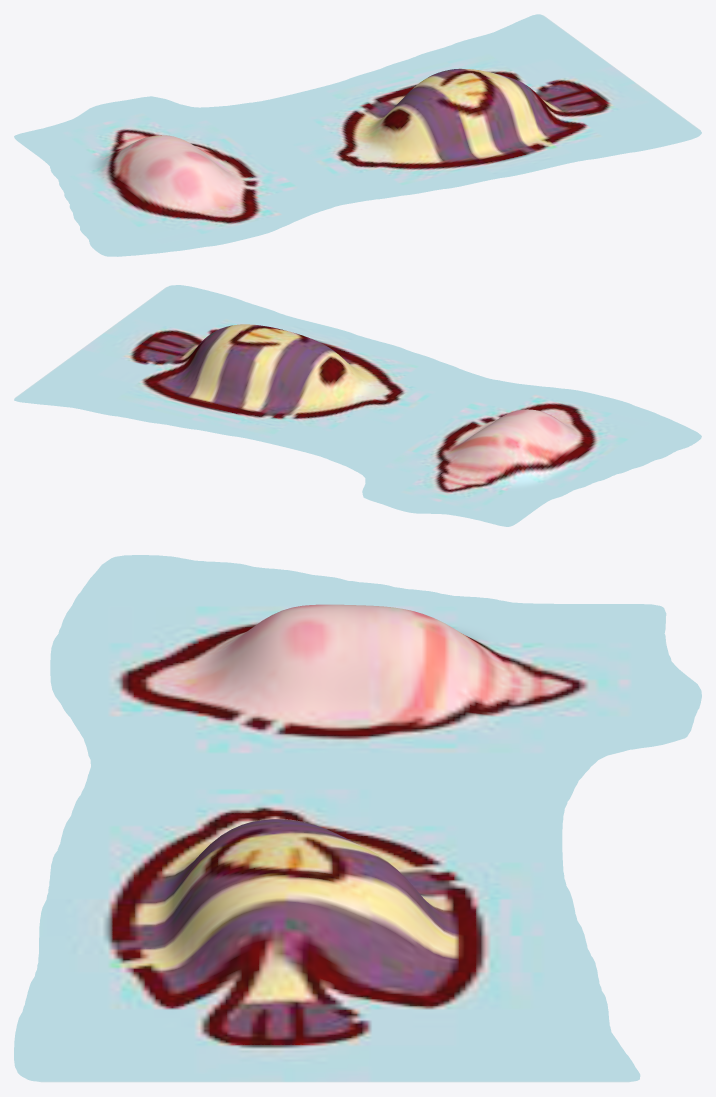
Rendered from 泡泡贴纸10.fbx.
3 renders of one model, top to bottom at view 1: azimuth 30°, elevation 25°; view 2: azimuth 150°, elevation 25°; view 3: azimuth 270°, elevation 25°, orthographic. The views are drawn at different scales.
Parts seen in each view (by area): view 1: 平面.001; view 2: 平面.001; view 3: 平面.001.
Part boxes in pixels (x1,y1,x2,y2): 平面.001: (14, 14, 701, 256); 平面.001: (14, 285, 701, 526); 平面.001: (14, 555, 701, 1082).
Bounding box in the file's own units: 242 × 15.75 × 133.
